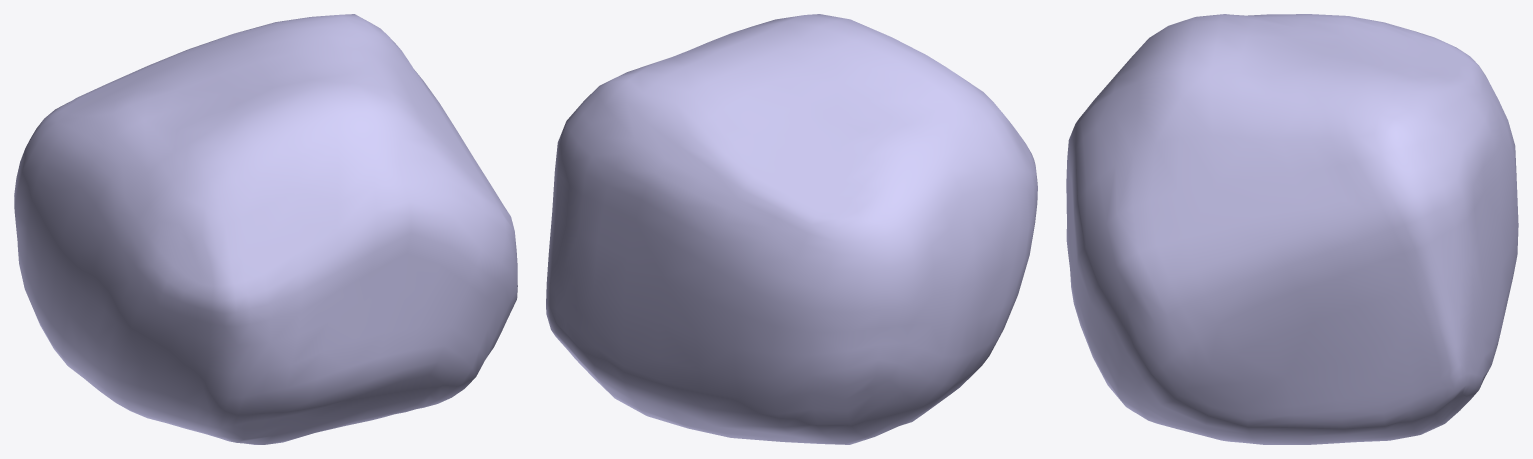
File: SnowCliffsLargeStone5.fbx
3 renders of one model, left to right at view 1: azimuth 30°, elevation 25°; view 2: azimuth 150°, elevation 25°; view 3: azimuth 270°, elevation 25°, orthographic. The views are drawn at different scales.
Parts seen in each view (by area): view 1: SnowCliffs_LargeStone_5; view 2: SnowCliffs_LargeStone_5; view 3: SnowCliffs_LargeStone_5.
Part boxes in pixels (x1=…): SnowCliffs_LargeStone_5: x1=14, y1=14, x2=517, y2=444; SnowCliffs_LargeStone_5: x1=546, y1=14, x2=1037, y2=444; SnowCliffs_LargeStone_5: x1=1066, y1=14, x2=1518, y2=444.
Bounding box in the file's own units: 65.19 × 63.47 × 54.51.
